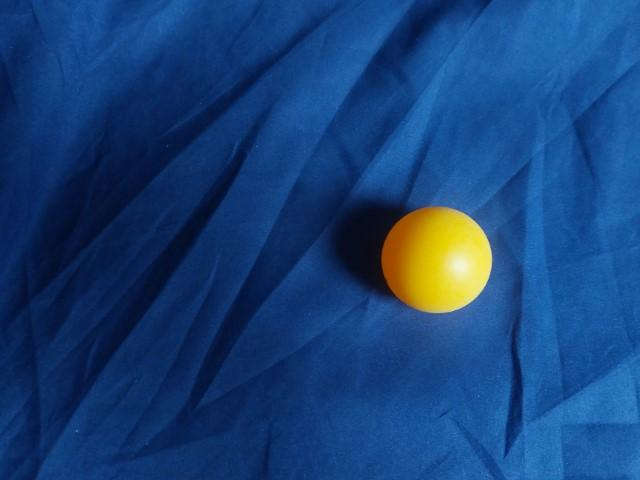oball: (135, 158, 269, 287)
